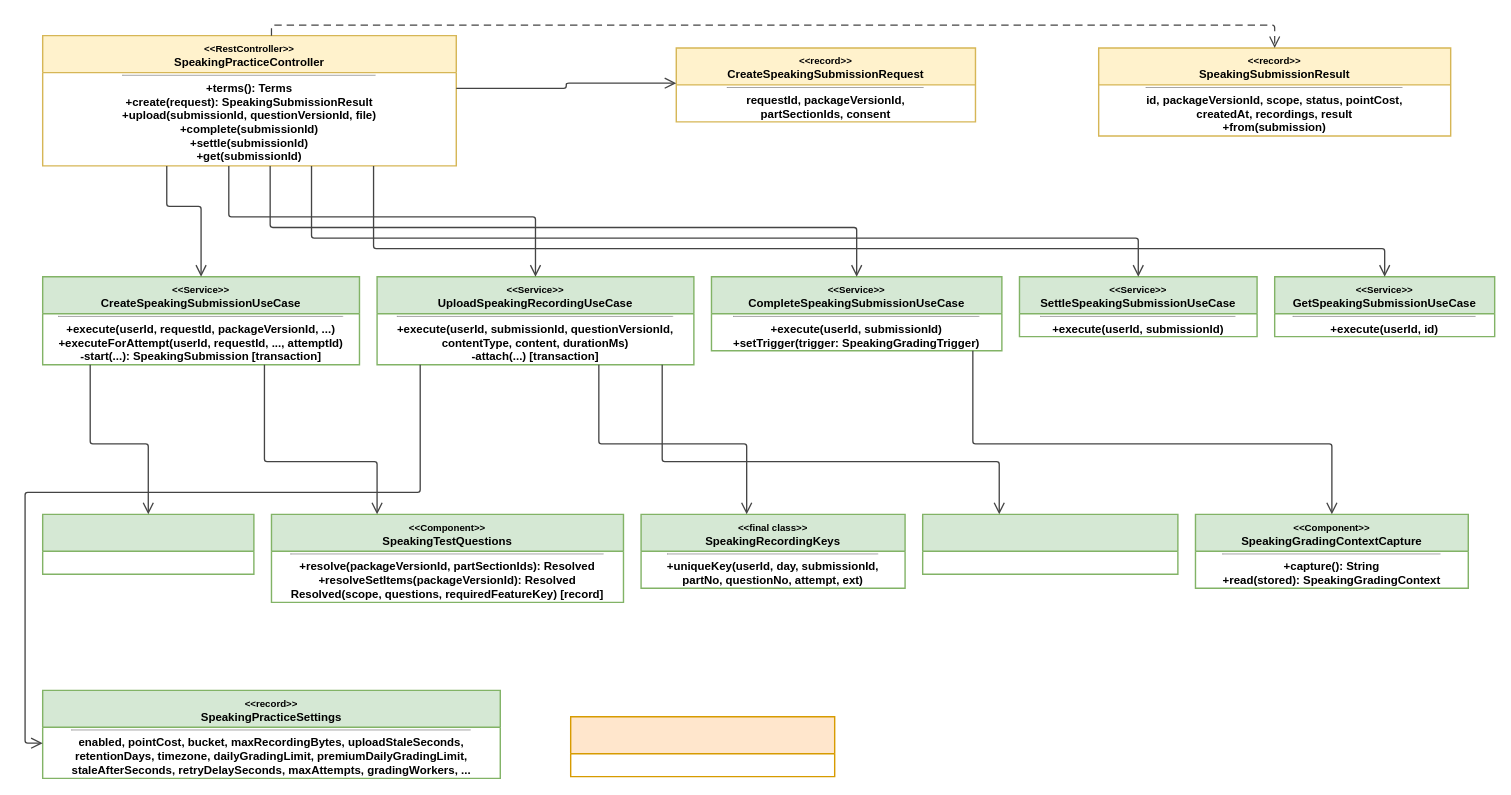
This 1511x795 diagram has some shape labels left out. Here are the shapes that lost their labels. From the top down, the centre of each, then its label:
At point (148, 543): "<<Component>> SpeakingAvailability +isAvailable(): boolean".
At point (1050, 543): "<<final class>> WavFormat +isPcm16kMono(content): boolean".
At point (702, 746): "<<exception>> LearningRequestException status, code, message, submissionId".
